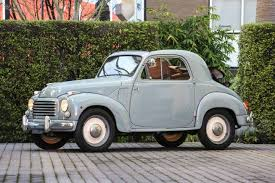car: (23, 50, 251, 151)
